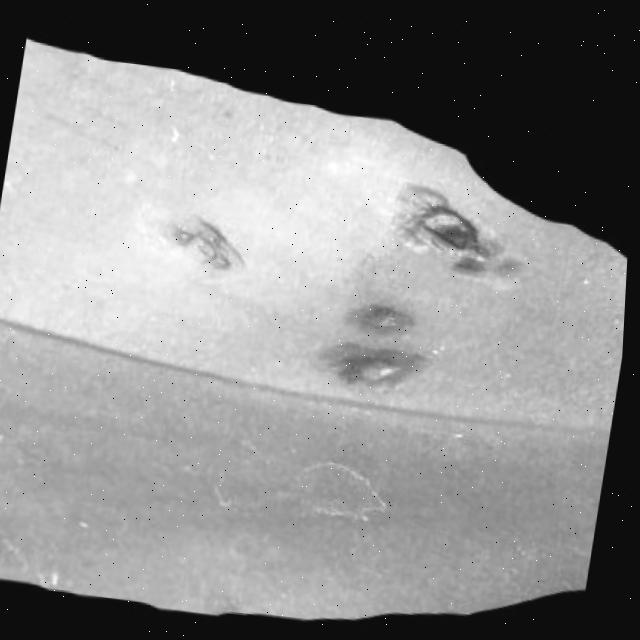mite: (93, 129, 545, 545), (306, 273, 452, 409), (406, 194, 492, 259), (345, 292, 421, 335)
